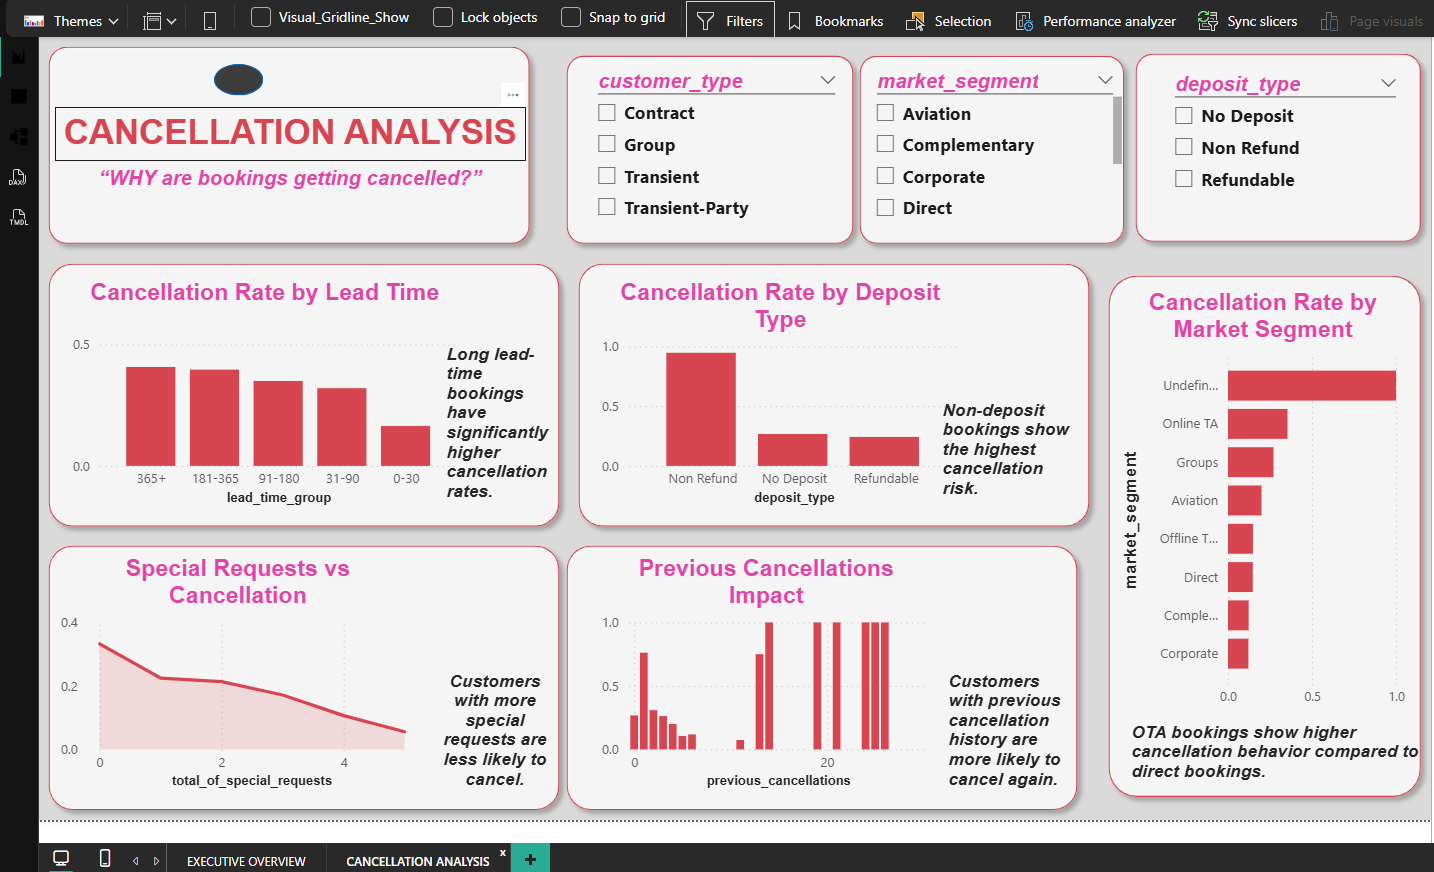

The page's visual inventory and layout, read from the dashboard file:
{"tool":"powerbi","page":{"name":"CANCELLATION ANALYSIS","canvas":[1280,720],"ordinal":1},"visuals":[{"type":"shape","box":[0,0,460.1,199.1],"z":0},{"type":"shape","box":[476.6,8.2,281.5,190.9],"z":1000},{"type":"textbox","box":[15.1,64.5,432.6,49.4],"z":2000},{"type":"textbox","box":[41.2,114,379.1,45.3],"z":3000},{"type":"shape","box":[0,199.1,487.6,259.6],"z":4000},{"type":"shape","box":[0,458.7,487.6,260.9],"z":5000},{"type":"shape","box":[487.6,199.1,487.6,259.6],"z":6000},{"type":"shape","box":[476.6,458.7,487.6,260.9],"z":7000},{"type":"shape","box":[975.1,210.1,304.9,497.2],"z":8000},{"type":"shape","box":[745.8,8.2,260.9,190.9],"z":9000},{"type":"shape","box":[999.8,6.9,280.2,190.9],"z":10000},{"type":"clusteredColumnChart","title":"Cancellation Rate by Lead Time","fields":{"Category":["hotel_bookings_dashboard.lead_time_group"],"Y":["Avg(hotel_bookings_dashboard.is_canceled)"]},"box":[26.1,222.5,363.9,212.9],"z":11000},{"type":"clusteredColumnChart","title":"Cancellation Rate by Deposit Type","fields":{"Category":["hotel_bookings_dashboard.deposit_type"],"Y":["Avg(hotel_bookings_dashboard.is_canceled)"]},"box":[512.3,222.5,339.2,212.9],"z":12000},{"type":"textbox","box":[369.4,277.4,107.1,157.9],"z":13000},{"type":"textbox","box":[825.4,329.6,137.3,105.8],"z":14000},{"type":"clusteredBarChart","title":"Cancellation Rate by Market Segment","fields":{"Category":["hotel_bookings_dashboard.market_segment"],"Y":["Avg(hotel_bookings_dashboard.is_canceled)"]},"box":[990.2,232.1,270.6,392.8],"z":15000},{"type":"textbox","box":[999.8,624.9,280.2,94.8],"z":16000},{"type":"lineChart","title":"Special Requests vs Cancellation","fields":{"Category":["hotel_bookings_dashboard.total_of_special_requests"],"Y":["Avg(hotel_bookings_dashboard.is_canceled)"]},"box":[15.1,476.6,336.5,219.7],"z":17000},{"type":"textbox","box":[357.1,578.2,125,129.1],"z":18000},{"type":"clusteredColumnChart","title":"Previous Cancellations Impact","fields":{"Y":["Avg(hotel_bookings_dashboard.is_canceled)"],"Category":["hotel_bookings_dashboard.previous_cancellations"]},"box":[512.3,476.6,313.1,219.7],"z":19000},{"type":"textbox","box":[830.9,578.2,125,129.1],"z":20000},{"type":"slicer","fields":{"Values":["hotel_bookings_dashboard.customer_type"]},"box":[501.3,24.7,244.5,167.6],"z":21000},{"type":"slicer","fields":{"Values":["hotel_bookings_dashboard.market_segment"]},"box":[758.1,24.7,243.1,155.2],"z":22000},{"type":"slicer","fields":{"Values":["hotel_bookings_dashboard.deposit_type"]},"box":[1031.4,27.5,229.4,142.8],"z":23000},{"type":"shape","box":[160.7,24.7,45.3,28.8],"z":24000}]}

Visuals, with their boxes on the page's 1280x720 design canvas (x1, y1, x2, y2). These are canvas units, not pixel positions in the 1434x872 screenshot, which may show the page scaled, cropped or inside an application window:
shape: (0,0,460,199)
shape: (477,8,758,199)
textbox: (15,64,448,114)
textbox: (41,114,420,159)
shape: (0,199,488,459)
shape: (0,459,488,720)
shape: (488,199,975,459)
shape: (477,459,964,720)
shape: (975,210,1280,707)
shape: (746,8,1007,199)
shape: (1000,7,1280,198)
"Cancellation Rate by Lead Time" clusteredColumnChart: (26,222,390,435)
"Cancellation Rate by Deposit Type" clusteredColumnChart: (512,222,852,435)
textbox: (369,277,476,435)
textbox: (825,330,963,435)
"Cancellation Rate by Market Segment" clusteredBarChart: (990,232,1261,625)
textbox: (1000,625,1280,720)
"Special Requests vs Cancellation" lineChart: (15,477,352,696)
textbox: (357,578,482,707)
"Previous Cancellations Impact" clusteredColumnChart: (512,477,825,696)
textbox: (831,578,956,707)
slicer - hotel_bookings_dashboard.customer_type: (501,25,746,192)
slicer - hotel_bookings_dashboard.market_segment: (758,25,1001,180)
slicer - hotel_bookings_dashboard.deposit_type: (1031,28,1261,170)
shape: (161,25,206,54)
